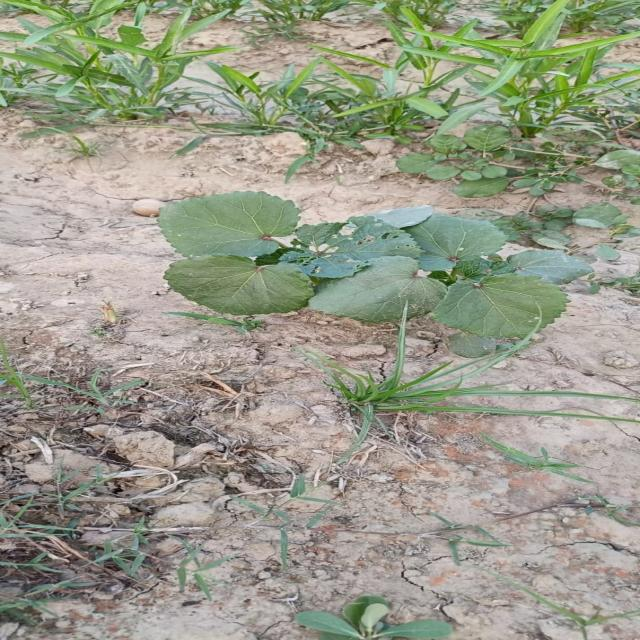plant: (156, 191, 592, 358)
